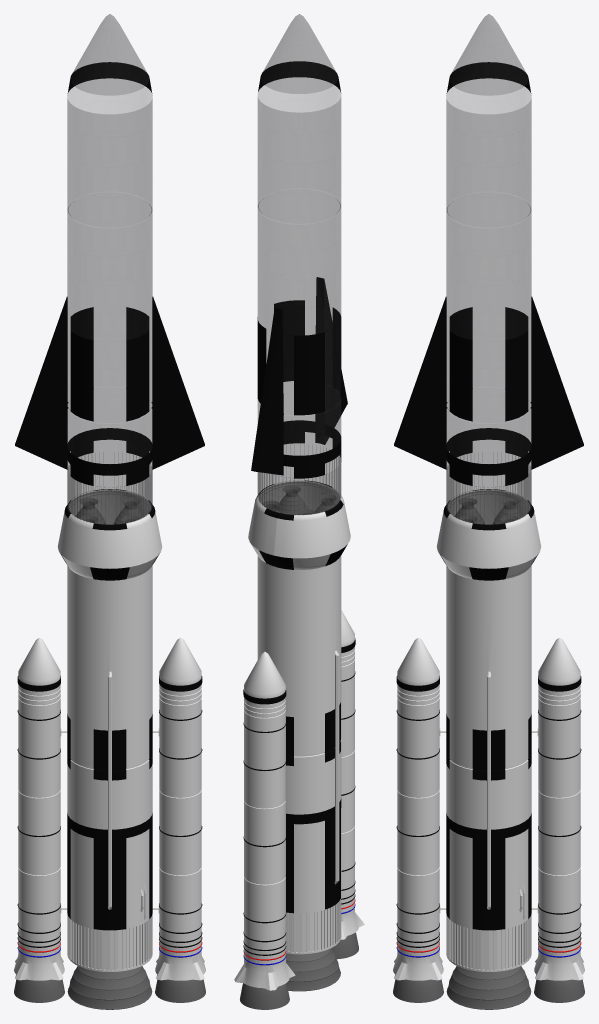
File: starship.gltf
3 views of the same model, side by side, from view 1: azimuth 90°, elevation 25°; view 2: azimuth 150°, elevation 25°; view 3: azimuth 270°, elevation 25° (orthographic).
Parts seen in each view (by area): view 1: 03-Second-stage, 01-First-stage, Rocket-01, Rocket-02, 02-Join, 02-Join-02; view 2: 03-Second-stage, 01-First-stage, Rocket-02, Rocket-01, 02-Join, 02-Join-02; view 3: 03-Second-stage, 01-First-stage, Rocket-01, Rocket-02, 02-Join-02, 02-Join.
Part boxes in pixels (x1,y1,x2,y2): 03-Second-stage: (15,14,204,524); 01-First-stage: (67,565,152,1009); Rocket-01: (155,638,205,1002); Rocket-02: (14,638,64,1002); 02-Join: (57,507,162,580); 02-Join-02: (64,489,155,524); 03-Second-stage: (251,14,347,515); 01-First-stage: (257,555,341,991); Rocket-02: (234,651,295,1009); Rocket-01: (331,610,364,959); 02-Join: (274,483,350,569); 02-Join-02: (248,480,321,567); 03-Second-stage: (394,14,583,524); 01-First-stage: (446,565,531,1009); Rocket-01: (393,638,443,1002); Rocket-02: (534,638,584,1002); 02-Join-02: (436,507,541,580); 02-Join: (443,489,534,524).
Bounding box in the file's own units: 2.42 × 25 × 4.45.
Materials: 7 (1 with a texture image).
